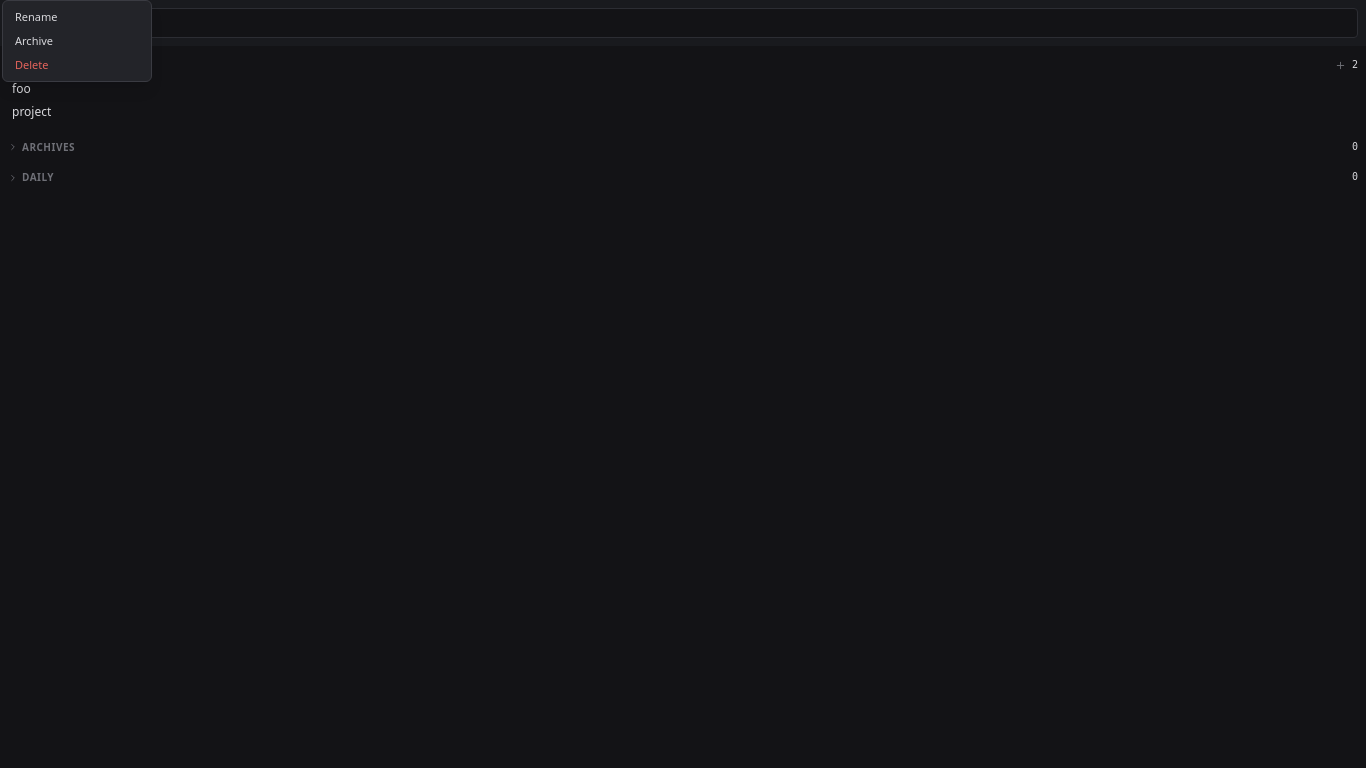
DeleteNoteDialog › a plain Enter cancels instead of deleting
Click the menu item "Delete": coordinates (32, 64) left=15, top=57, right=48, bottom=72
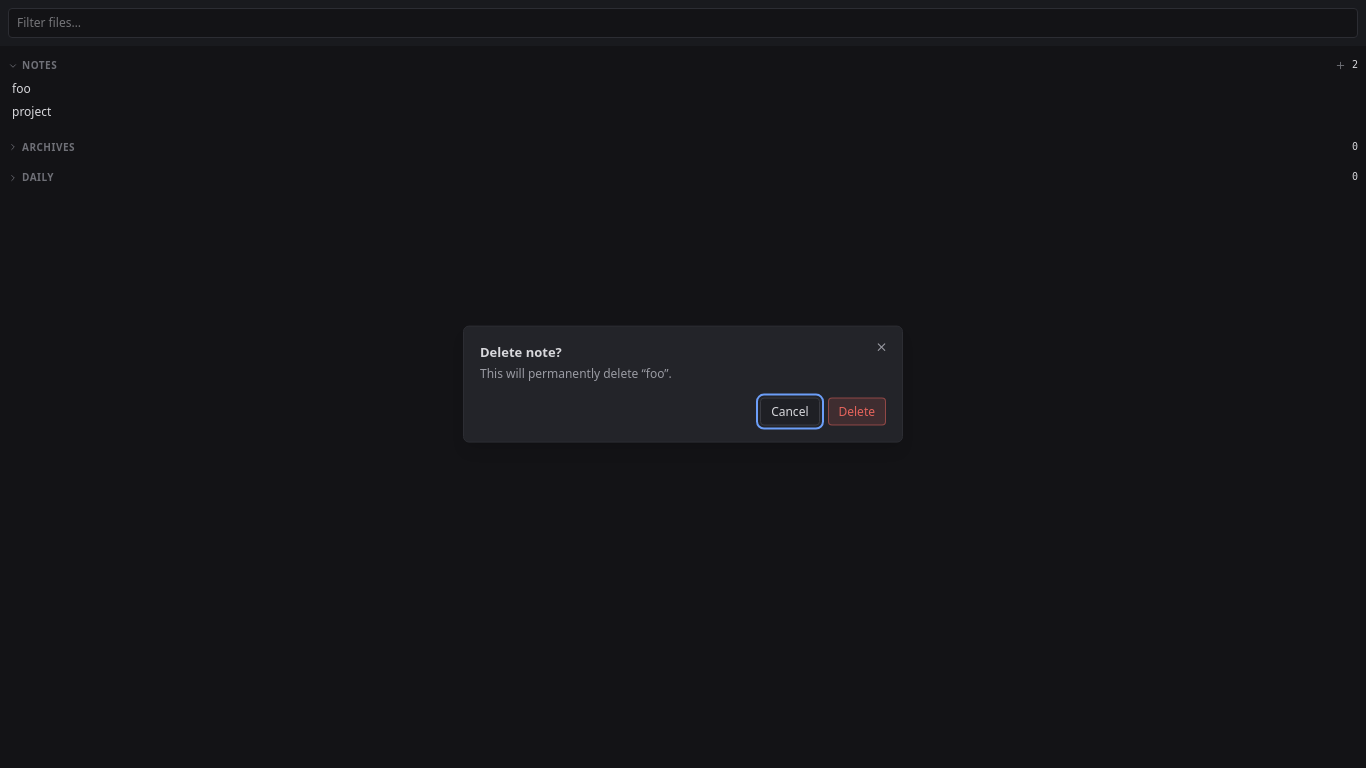
Expected: the heading "Delete note?" is shown, left=480, top=343, right=562, bottom=361
Press Enter
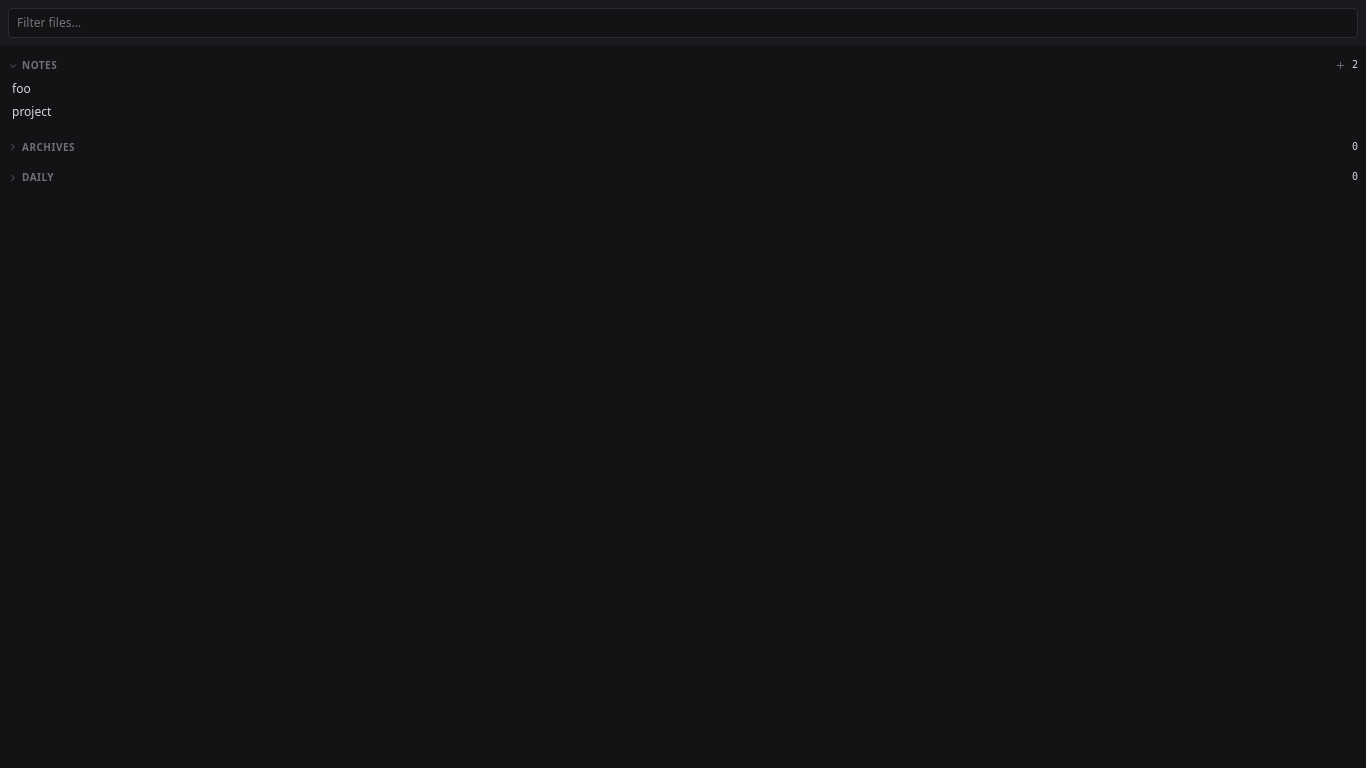
Expected: the heading "Delete note?" is gone
